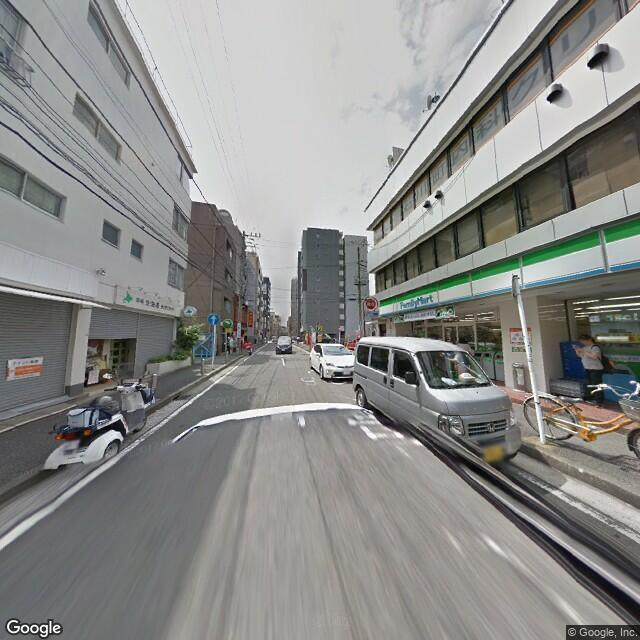family_mart: (380, 217, 638, 315), (398, 292, 437, 310)
